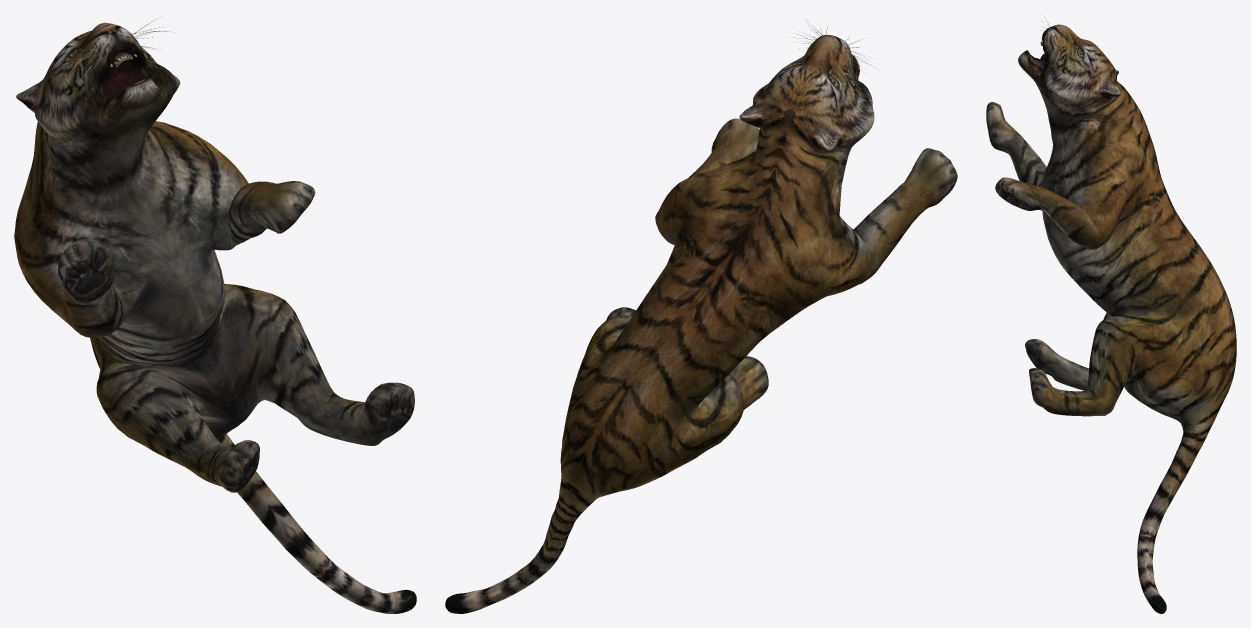
File: asset4.glb
3 views of the same model, side by side, from view 1: azimuth 30°, elevation 25°; view 2: azimuth 150°, elevation 25°; view 3: azimuth 270°, elevation 25° (orthographic). The views are drawn at different scales.
Parts seen in each view (by area): view 1: D1201A12; view 2: D1201A12; view 3: D1201A12.
Part boxes in pixels (x1,y1,x2,y2): D1201A12: (14,18,416,613); D1201A12: (445,19,957,613); D1201A12: (986,17,1236,613).
Bounding box in the file's own units: 200 × 291 × 139.
Materials: 1 (1 with a texture image).
